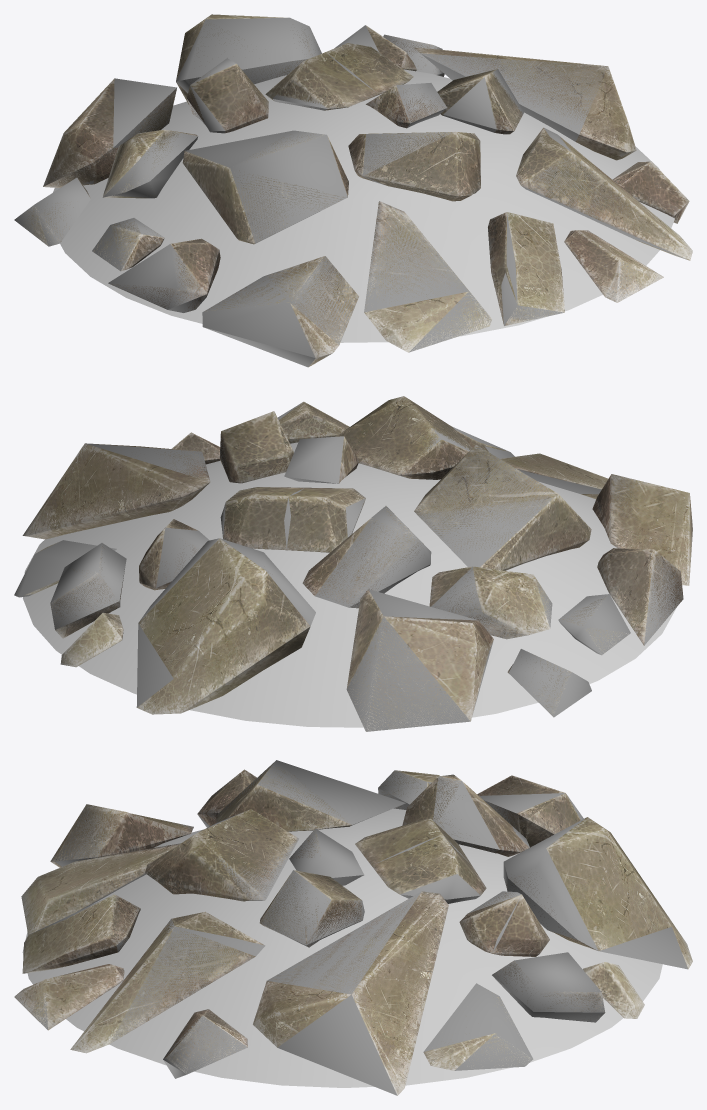
Rendered from z_debris_big_03.FBX.
3 renders of one model, top to bottom at view 1: azimuth 30°, elevation 25°; view 2: azimuth 150°, elevation 25°; view 3: azimuth 270°, elevation 25°, orthographic. The views are drawn at different scales.
Parts seen in each view (by area): view 1: debris_big_03_LOD0, debris_big_03_CLOD0, debris_big_m_01_LOD0; view 2: debris_big_03_LOD0, debris_big_03_CLOD0, debris_big_m_01_LOD0; view 3: debris_big_03_LOD0, debris_big_03_CLOD0, debris_big_m_01_LOD0.
Part boxes in pixels (x1,y1,x2,y2): debris_big_03_LOD0: [23, 14, 692, 366]; debris_big_03_CLOD0: [14, 17, 686, 367]; debris_big_m_01_LOD0: [53, 69, 674, 342]; debris_big_03_LOD0: [22, 396, 692, 731]; debris_big_03_CLOD0: [14, 402, 692, 731]; debris_big_m_01_LOD0: [23, 442, 676, 727]; debris_big_03_LOD0: [14, 763, 692, 1095]; debris_big_03_CLOD0: [22, 760, 687, 1095]; debris_big_m_01_LOD0: [22, 808, 662, 1087].
Size of what is drawn, in the model's own units: 216 by 60.18 by 221.
